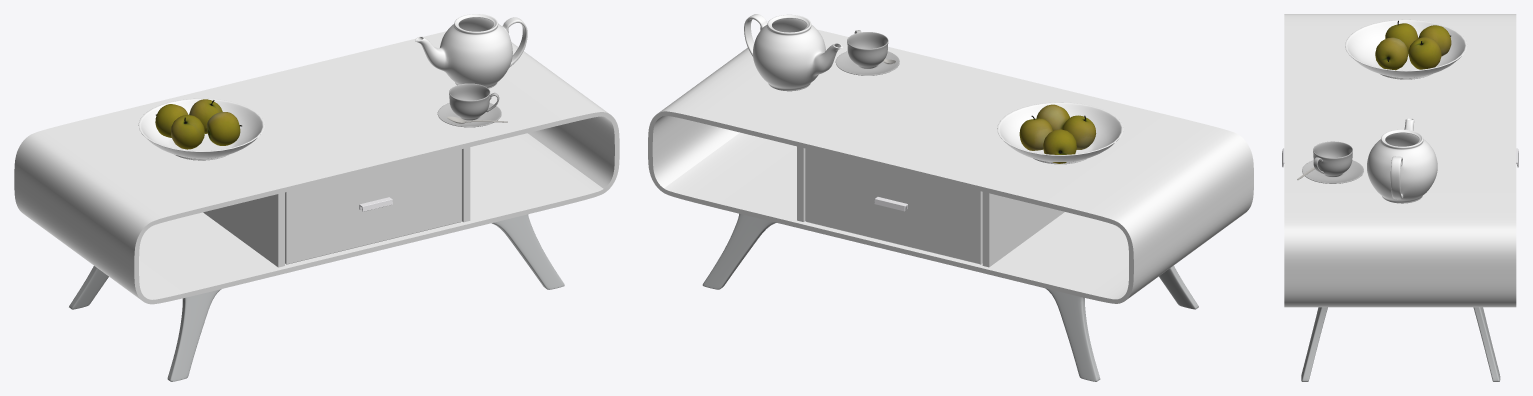
The model's file is coffee_table.glb.
The picture shows the model from 3 angles, left to right: view 1: azimuth 30°, elevation 25°; view 2: azimuth 150°, elevation 25°; view 3: azimuth 270°, elevation 25°; orthographic projection. The views are drawn at different scales.
Visible parts, largest first — view 1: Table_0002, Table_0003, Ceramic_0002, TableLegs, Table_0004, Ceramic_0001, Dishes_0001, Apple_0001, Apple_0004, Dishes_0002, Apple_0003, Apple_0002; view 2: Table_0002, Table_0001, Ceramic_0002, TableLegs, Table_0004, Ceramic_0001, Dishes_0001, Apple_0002, Dishes_0002, Apple_0001, Apple_0003, Apple_0004; view 3: Table_0002, Ceramic_0002, Ceramic_0001, TableLegs, Dishes_0001, Apple_0002, Apple_0004, Dishes_0002, Apple_0003, Apple_0001.
Part boxes in pixels (left/top/right/bottom): Table_0002: left=14, top=31, right=619, bottom=304; Table_0003: left=285, top=149, right=461, bottom=264; Ceramic_0002: left=415, top=14, right=527, bottom=88; TableLegs: left=69, top=214, right=564, bottom=381; Table_0004: left=203, top=147, right=470, bottom=267; Ceramic_0001: left=138, top=98, right=264, bottom=160; Dishes_0001: left=449, top=83, right=499, bottom=120; Apple_0001: left=171, top=115, right=204, bottom=149; Apple_0004: left=206, top=112, right=241, bottom=145; Dishes_0002: left=437, top=103, right=501, bottom=127; Apple_0003: left=155, top=104, right=188, bottom=137; Apple_0002: left=189, top=99, right=222, bottom=133; Table_0002: left=648, top=29, right=1253, bottom=303; Table_0001: left=805, top=148, right=982, bottom=264; Ceramic_0002: left=744, top=14, right=842, bottom=91; TableLegs: left=702, top=213, right=1198, bottom=381; Table_0004: left=797, top=146, right=1064, bottom=267; Ceramic_0001: left=997, top=102, right=1123, bottom=164; Dishes_0001: left=847, top=30, right=888, bottom=68; Apple_0002: left=1019, top=115, right=1052, bottom=150; Dishes_0002: left=835, top=51, right=899, bottom=75; Apple_0001: left=1062, top=115, right=1096, bottom=149; Apple_0003: left=1043, top=129, right=1076, bottom=163; Apple_0004: left=1036, top=104, right=1069, bottom=130; Table_0002: left=1284, top=14, right=1516, bottom=307; Ceramic_0002: left=1367, top=118, right=1437, bottom=203; Ceramic_0001: left=1345, top=19, right=1467, bottom=79; TableLegs: left=1301, top=307, right=1500, bottom=381; Dishes_0001: left=1313, top=141, right=1352, bottom=176; Apple_0002: left=1408, top=37, right=1441, bottom=69; Apple_0004: left=1375, top=37, right=1408, bottom=70; Dishes_0002: left=1302, top=160, right=1363, bottom=183; Apple_0003: left=1418, top=25, right=1451, bottom=56; Apple_0001: left=1385, top=20, right=1418, bottom=52.
Size of the model in its own units: 1.21 by 0.5586 by 0.5287.
Materials: 2 (2 with a texture image).
